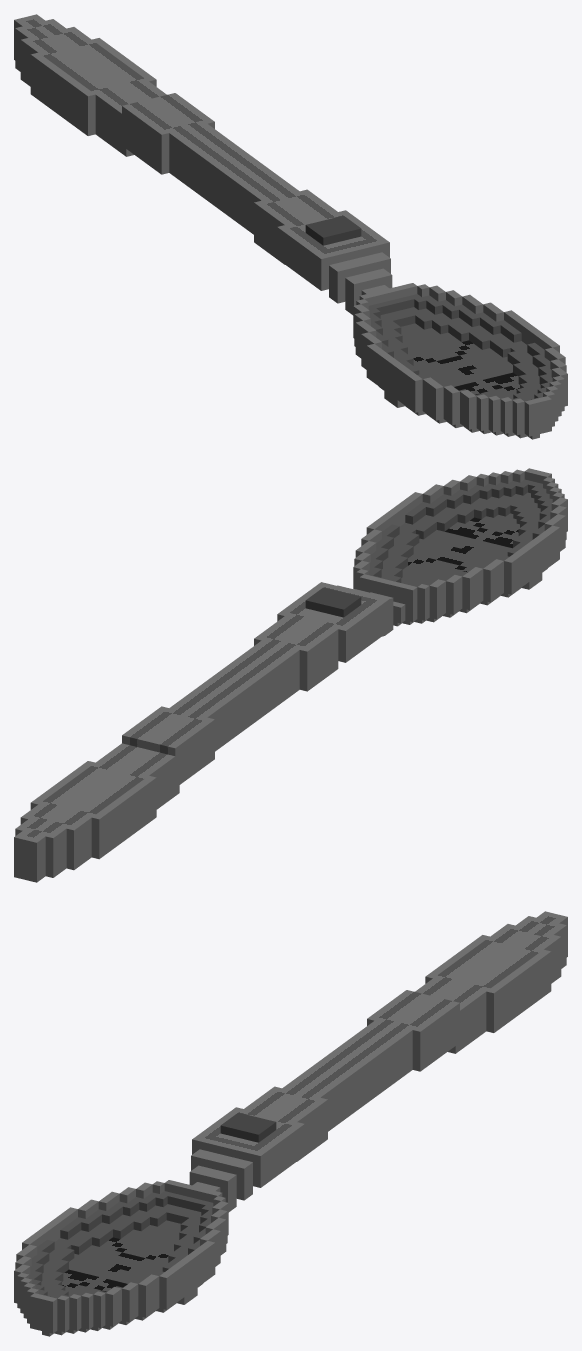
Rendered from Spoon.obj.
3 renders of one model, top to bottom at view 1: azimuth 30°, elevation 25°; view 2: azimuth 150°, elevation 25°; view 3: azimuth 330°, elevation 25°, orthographic.
Parts seen in each view (by area): view 1: Spoon.Merged_Plane-tex; view 2: Spoon.Merged_Plane-tex; view 3: Spoon.Merged_Plane-tex.
Boxes of the visible parts, x1,y1,x2,y2 form: Spoon.Merged_Plane-tex: [14, 14, 567, 439]; Spoon.Merged_Plane-tex: [14, 468, 567, 882]; Spoon.Merged_Plane-tex: [14, 911, 567, 1336].
Size of the model in its own units: 38 by 18 by 234.
Materials: 1 (1 with a texture image).
